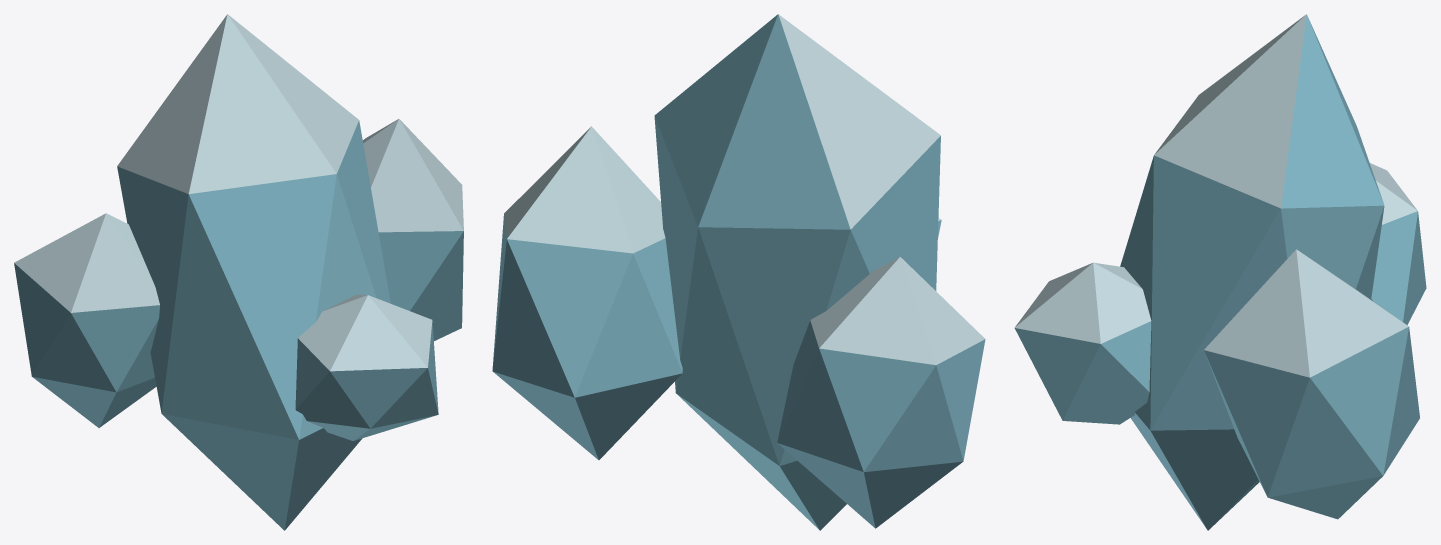
File: Ice_Chunks.glb
3 views of the same model, side by side, from view 1: azimuth 30°, elevation 25°; view 2: azimuth 150°, elevation 25°; view 3: azimuth 270°, elevation 25° (orthographic). The views are drawn at different scales.
Parts seen in each view (by area): view 1: Ice_Chunks; view 2: Ice_Chunks; view 3: Ice_Chunks.
Part boxes in pixels (x1,y1,x2,y2): Ice_Chunks: (14, 14, 463, 530); Ice_Chunks: (492, 14, 985, 530); Ice_Chunks: (1014, 14, 1426, 530).
Bounding box in the file's own units: 2.52 × 2.81 × 2.05.
